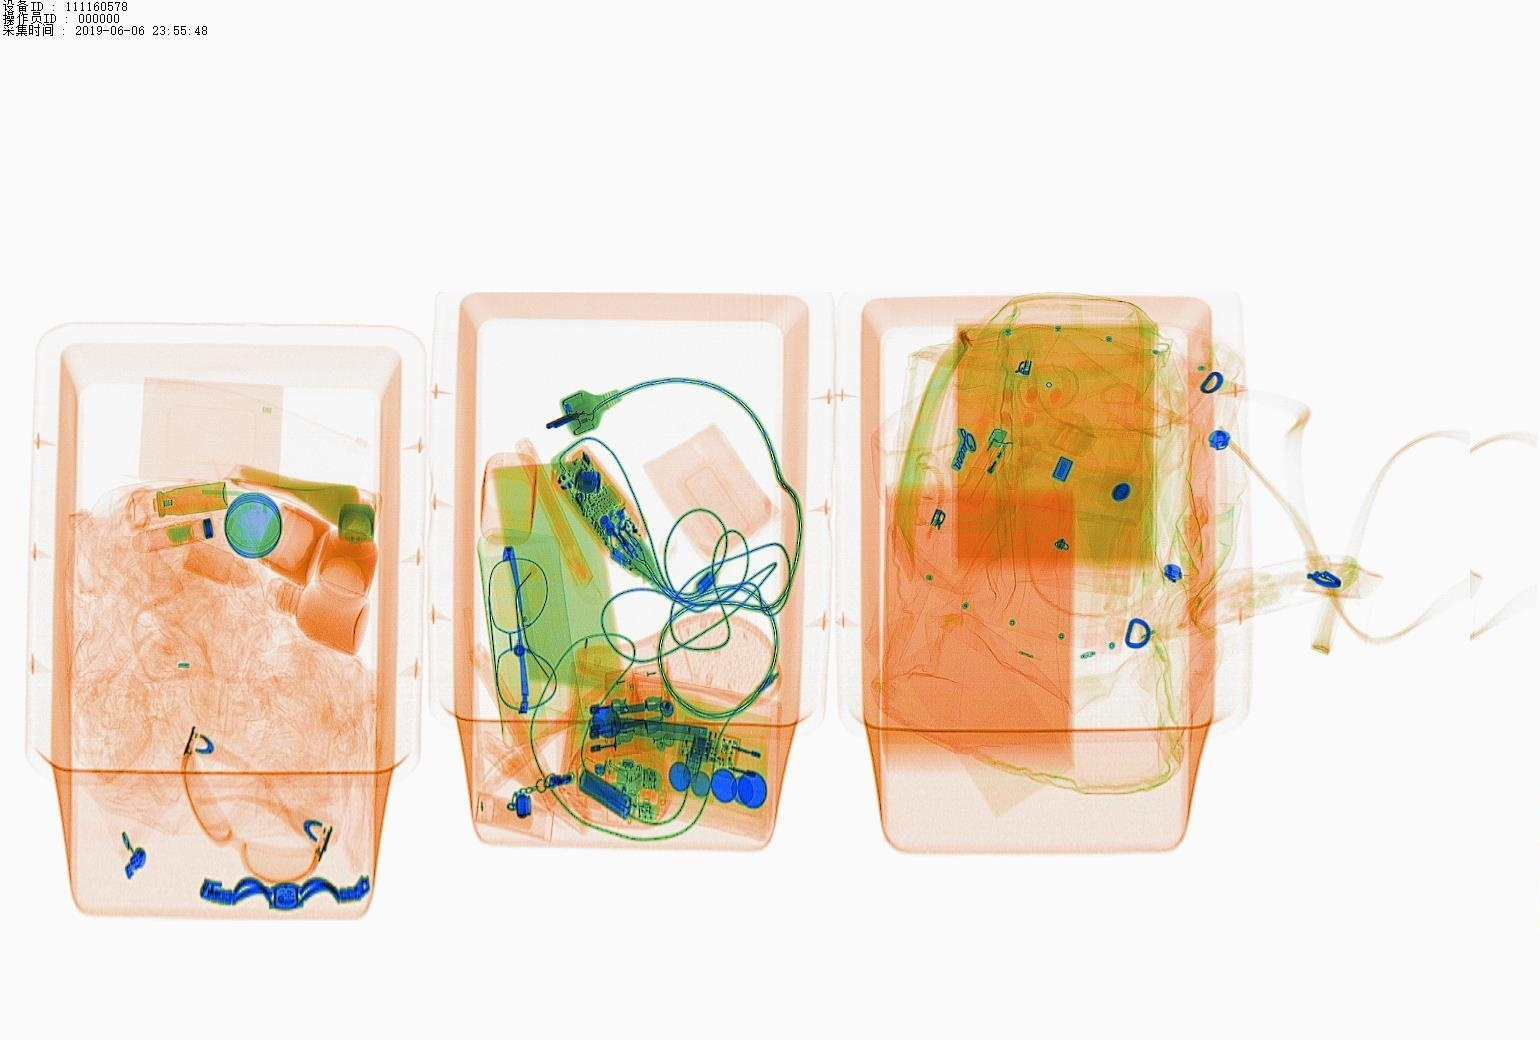NonmetallicFire: (957, 413, 1044, 513)
